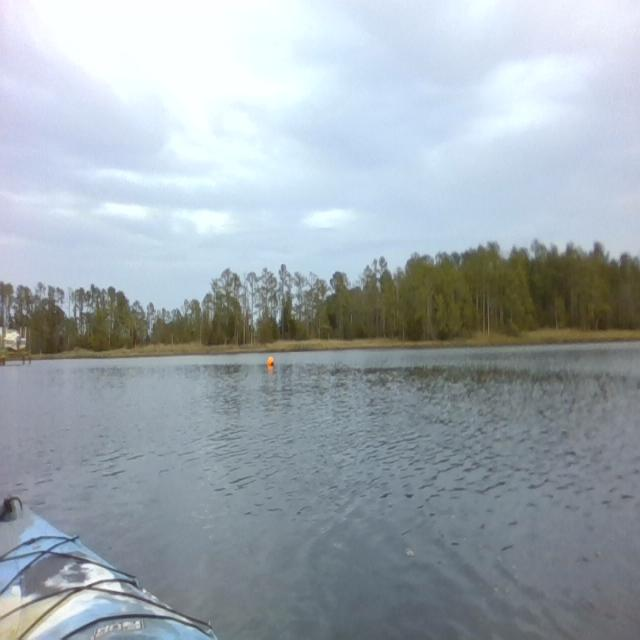Buoy: (266, 354, 275, 369)
